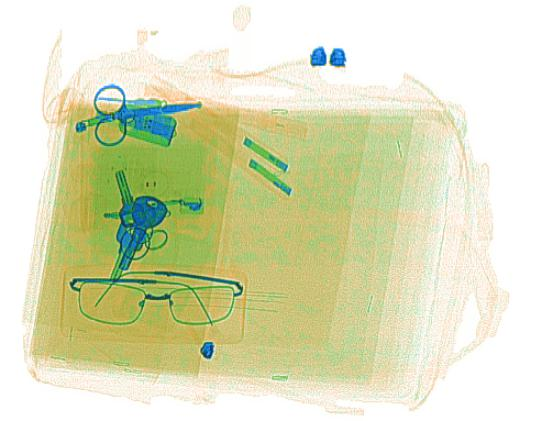USBFlashDisk: (117, 107, 175, 146)
scissors: (93, 81, 202, 146)
